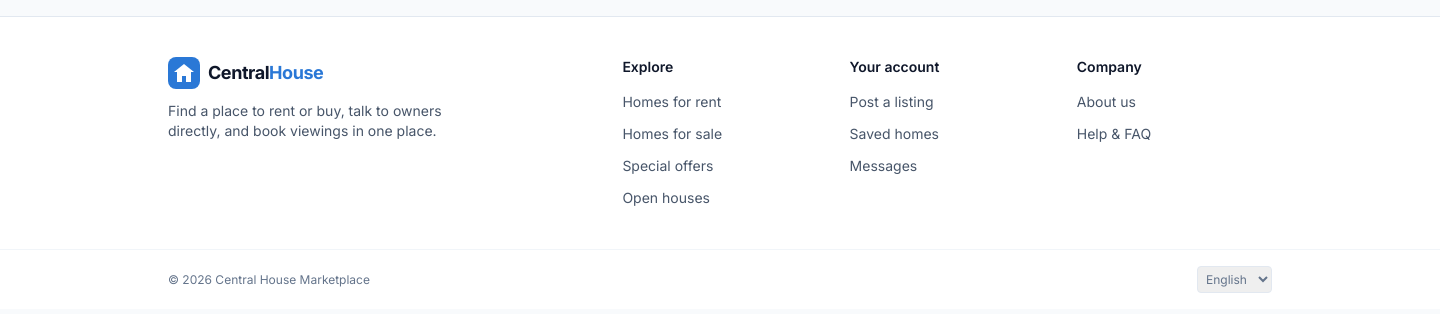
it: Footer › switches language and remembers the choice
Select "Español" in the dropdown named "Language": (1234, 280) [1197,266,1272,293]
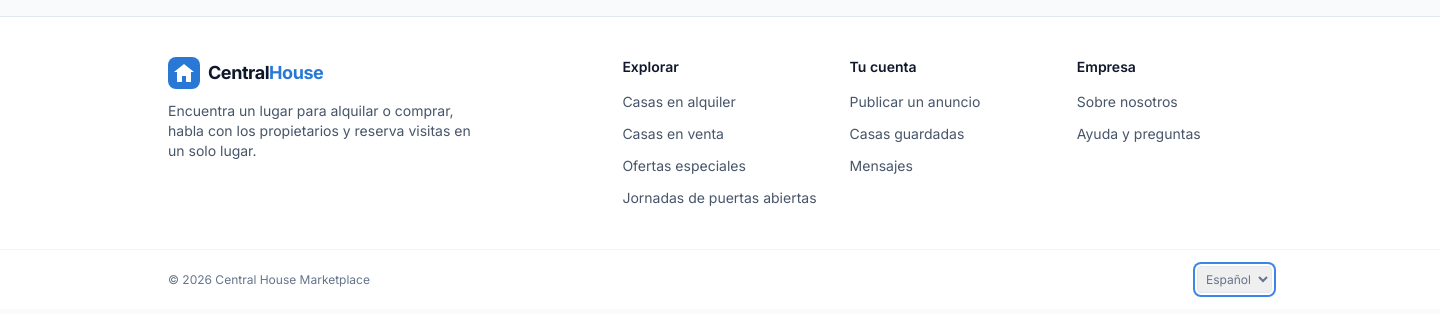
Expected: the text "habla con los propietarios" is shown, [168,102,471,159]
Expected: the link "Casas en alquiler" is shown, [622,93,736,110]
